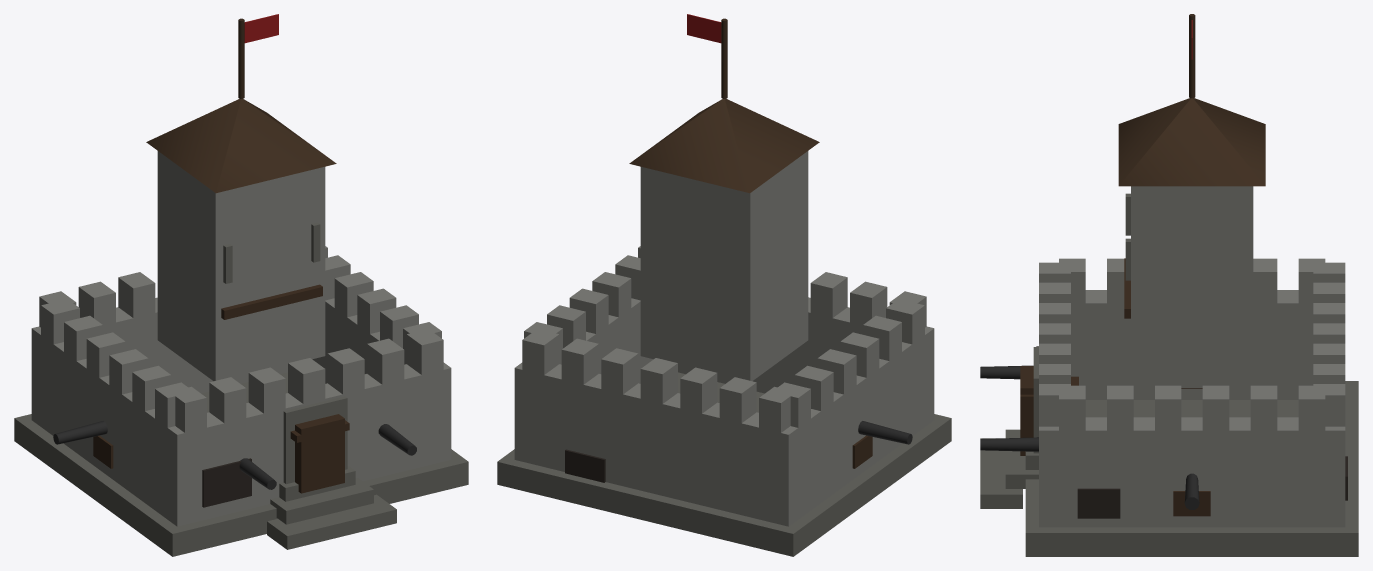
Rendered from pirate-fortress.glb.
3 views of the same model, side by side, from view 1: azimuth 30°, elevation 25°; view 2: azimuth 150°, elevation 25°; view 3: azimuth 270°, elevation 25° (orthographic). The views are drawn at different scales.
Parts seen in each view (by area): view 1: keep_walls, wall_front, wall_left, foundation, keep_roof, wall_back, gate_door, step_1, step_2, wall_right, gate_frame, scorch_1 (+25 smaller); view 2: keep_walls, wall_back, foundation, wall_left, keep_roof, wall_front, wall_right, cren_front_2, cren_back_1, cren_back_2, cren_back_3, cren_back_4 (+18 smaller); view 3: wall_right, keep_walls, foundation, wall_left, keep_roof, wall_back, wall_front, step_1, scorch_2, cren_right_1, cren_right_2, cren_right_4 (+29 smaller).
Part boxes in pixels (<box>): keep_walls: <box>157,151,325,381</box>; wall_front: <box>162,362,451,526</box>; wall_left: <box>31,328,196,522</box>; foundation: <box>14,372,468,556</box>; keep_roof: <box>146,99,336,193</box>; wall_back: <box>31,297,287,430</box>; gate_door: <box>295,414,344,493</box>; step_1: <box>267,494,396,549</box>; step_2: <box>270,478,373,524</box>; wall_right: <box>312,298,445,408</box>; gate_frame: <box>283,396,347,484</box>; scorch_1: <box>202,458,251,507</box>; keep_walls: <box>640,151,808,381</box>; wall_back: <box>514,362,803,526</box>; foundation: <box>497,372,951,556</box>; wall_left: <box>762,328,934,526</box>; keep_roof: <box>629,99,819,193</box>; wall_front: <box>678,297,934,430</box>; wall_right: <box>559,298,653,383</box>; cren_front_2: <box>810,272,847,317</box>; cren_back_1: <box>719,377,756,423</box>; cren_back_2: <box>680,367,717,413</box>; cren_back_3: <box>640,358,677,403</box>; cren_back_4: <box>601,348,638,394</box>; wall_right: <box>1039,417,1345,527</box>; keep_walls: <box>1131,186,1253,388</box>; foundation: <box>1025,381,1358,556</box>; wall_left: <box>1071,290,1313,399</box>; keep_roof: <box>1118,98,1265,186</box>; wall_back: <box>1313,426,1345,527</box>; wall_front: <box>1039,426,1070,527</box>; step_1: <box>980,438,1022,508</box>; scorch_2: <box>1077,488,1120,518</box>; cren_right_1: <box>1250,385,1277,430</box>; cren_right_2: <box>1202,385,1229,430</box>; cren_right_4: <box>1107,385,1133,430</box>.
Bounding box in the file's own units: 1.69 × 1.93 × 1.42.
